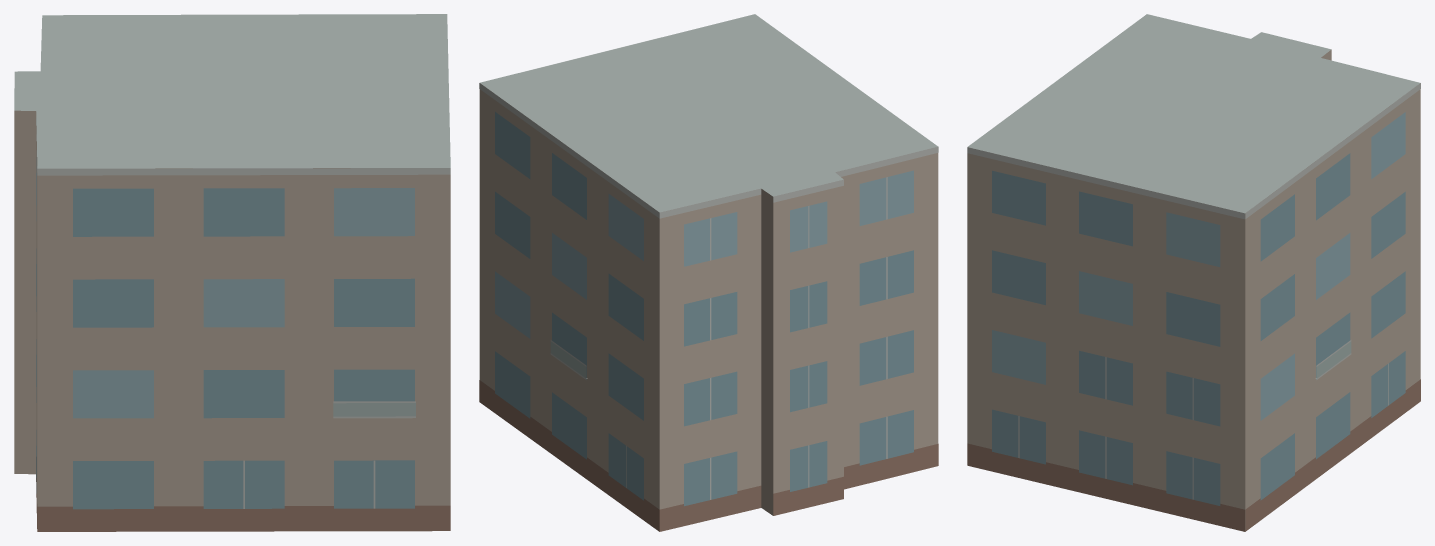
File: survey-upis-32870774.glb
3 views of the same model, side by side, from view 1: azimuth 30°, elevation 25°; view 2: azimuth 150°, elevation 25°; view 3: azimuth 270°, elevation 25° (orthographic). The views are drawn at different scales.
Parts seen in each view (by area): view 1: survey-upis-32870774.tmp; view 2: survey-upis-32870774.tmp; view 3: survey-upis-32870774.tmp.
Boxes of the visible parts, x1,y1,x2,y2 form: survey-upis-32870774.tmp: (14, 14, 450, 531); survey-upis-32870774.tmp: (479, 14, 938, 531); survey-upis-32870774.tmp: (967, 14, 1420, 531).
Bounding box in the file's own units: 17.19 × 12.8 × 16.53.
